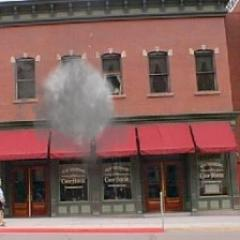smoke: (8, 30, 136, 172)
